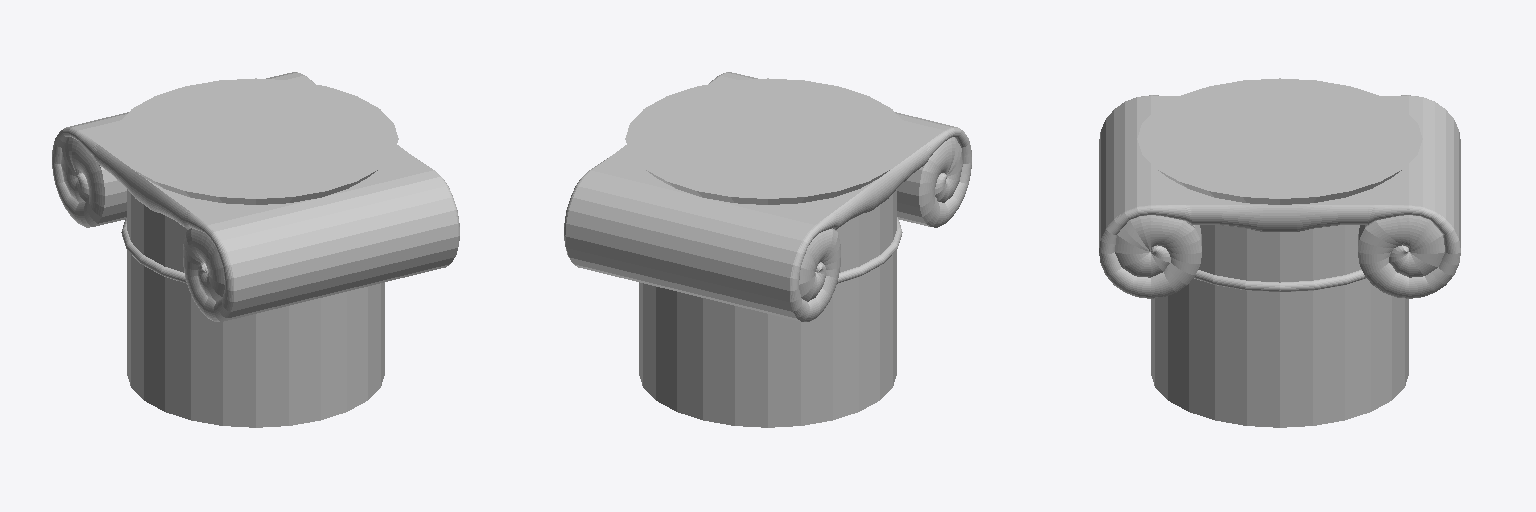
File: hat_column.obj
3 renders of one model, left to right at view 1: azimuth 30°, elevation 25°; view 2: azimuth 150°, elevation 25°; view 3: azimuth 270°, elevation 25°, orthographic.
Visible parts, largest first — view 1: group_0; view 2: group_0; view 3: group_0.
Part boxes in pixels (bbox=[...]): group_0: bbox=[52, 72, 459, 427]; group_0: bbox=[564, 72, 971, 427]; group_0: bbox=[1099, 78, 1460, 427].
Size of the model in its own units: 1.1 by 1 by 1.4.